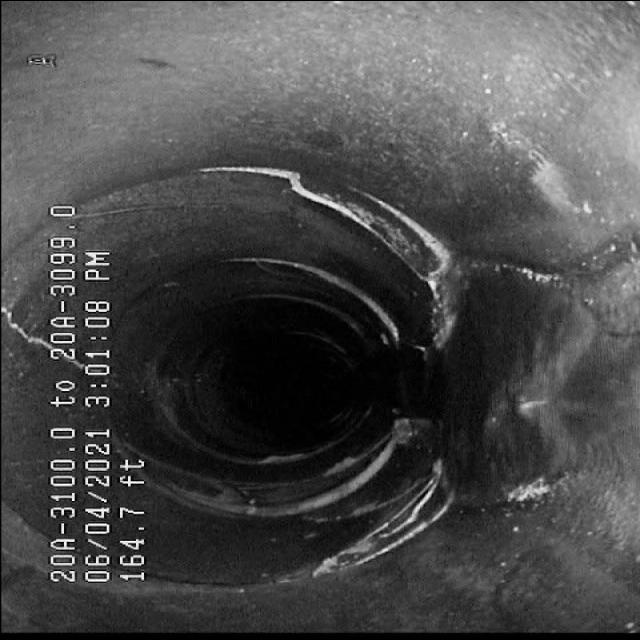Fracture: (422, 229, 614, 313)
